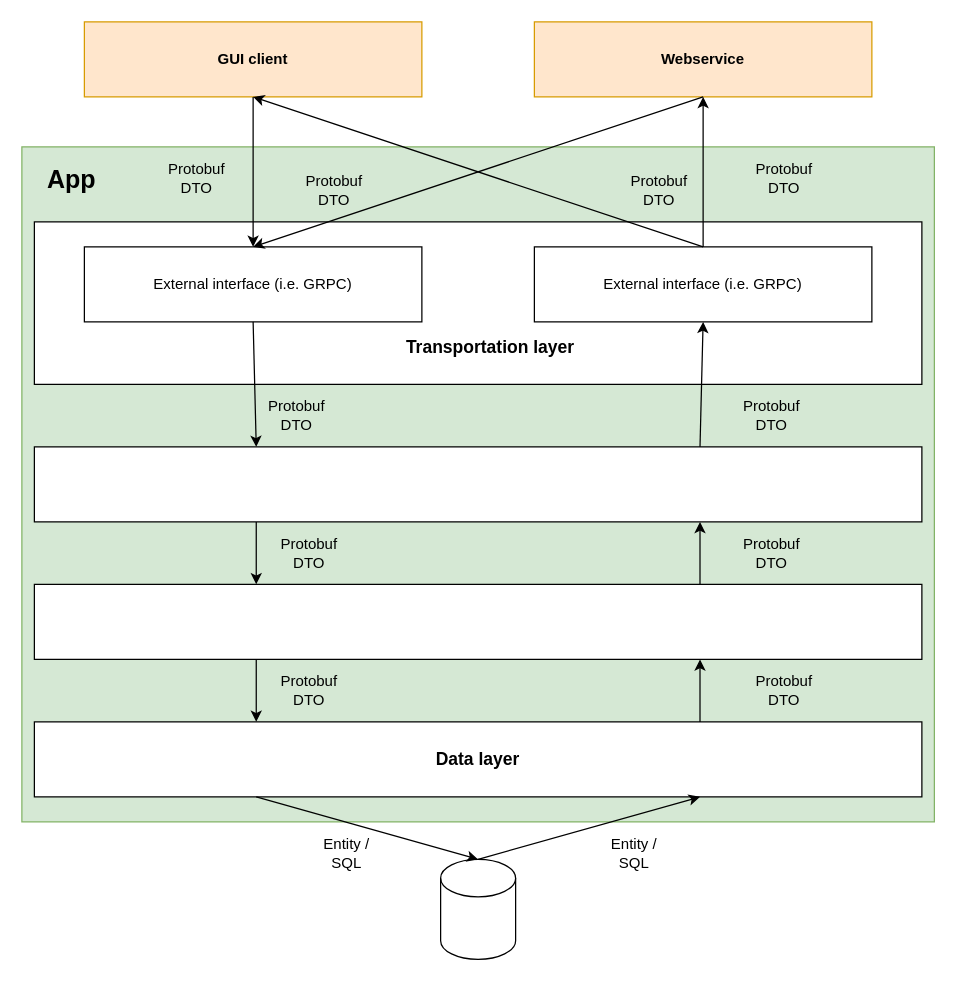
Some shapes in this 956 by 981 pixel diagram are drawn without their labels. The shapes that lost their labels are listed below. From the top down, each one's box as (x1, y1, x2, y2) in pixels, then its label:
(33, 446, 922, 522): Business transaction layer (BusinessTransactionManager)
(33, 583, 922, 659): App business logic layer
(439, 858, 516, 959): Database
